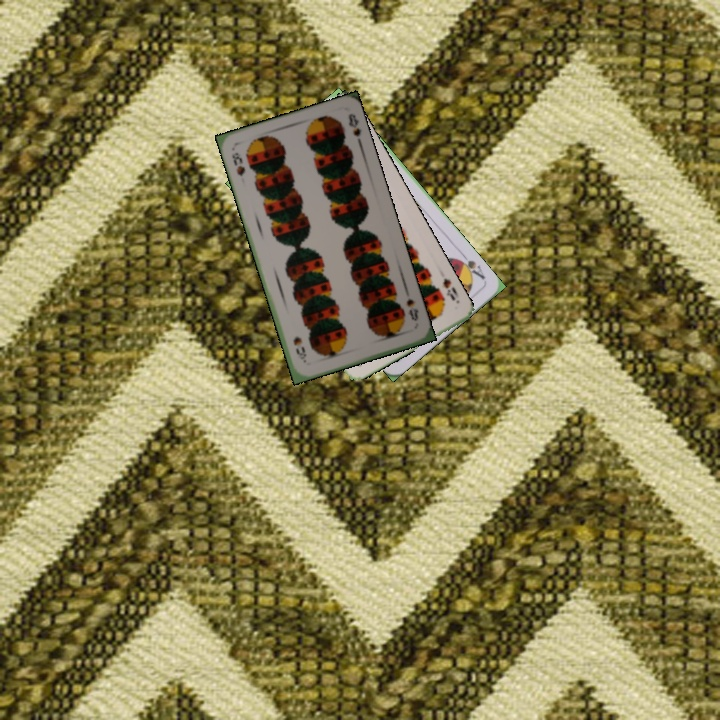S8: (439, 274, 462, 303), (228, 148, 248, 179), (402, 294, 421, 323)
SA: (453, 250, 487, 282)
